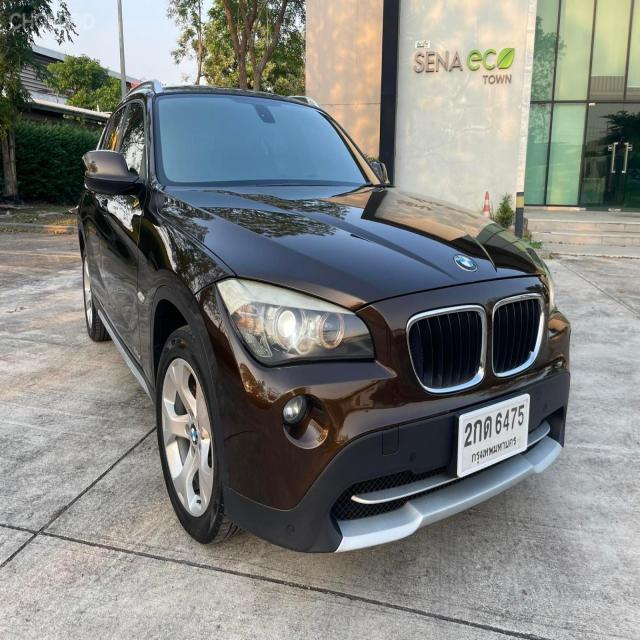license_plate: (455, 390, 532, 482)
